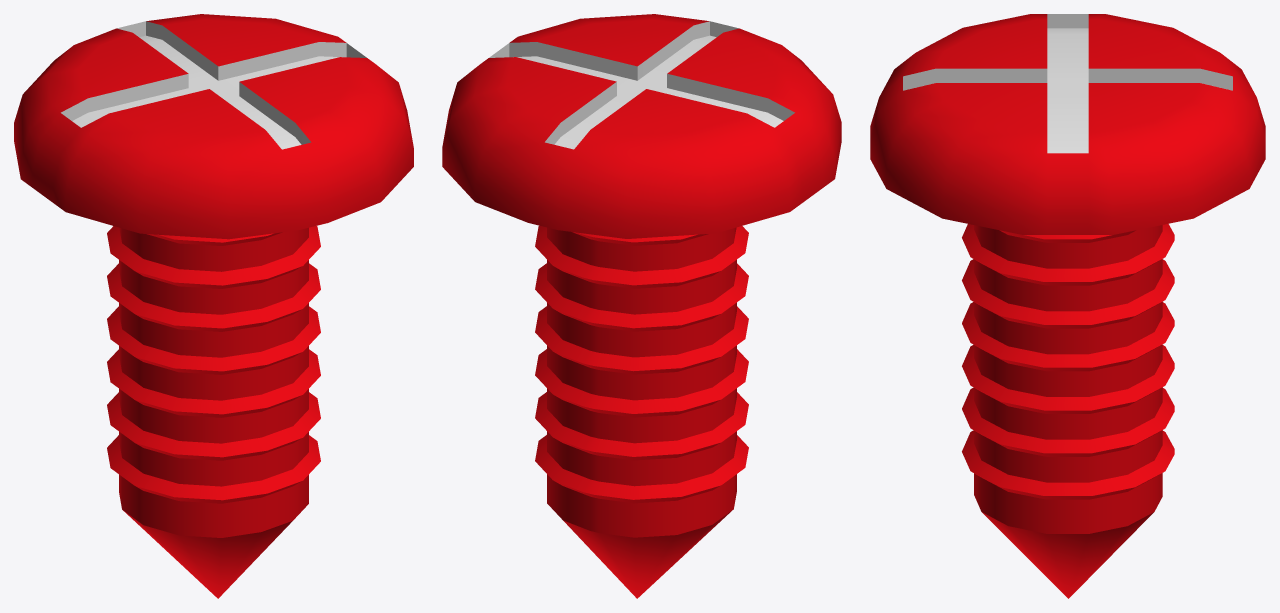
Rendered from USEFULL SCREWS.fbx.
The picture shows the model from 3 angles, left to right: view 1: azimuth 30°, elevation 25°; view 2: azimuth 150°, elevation 25°; view 3: azimuth 270°, elevation 25°; orthographic projection.
Visible parts, largest first — view 1: Cylinder.001; view 2: Cylinder.001; view 3: Cylinder.001.
Boxes of the visible parts, x1,y1,x2,y2 form: Cylinder.001: (14,14,413,598); Cylinder.001: (442,14,841,598); Cylinder.001: (870,14,1265,598).
Size of the model in its own units: 195 by 285 by 196.
